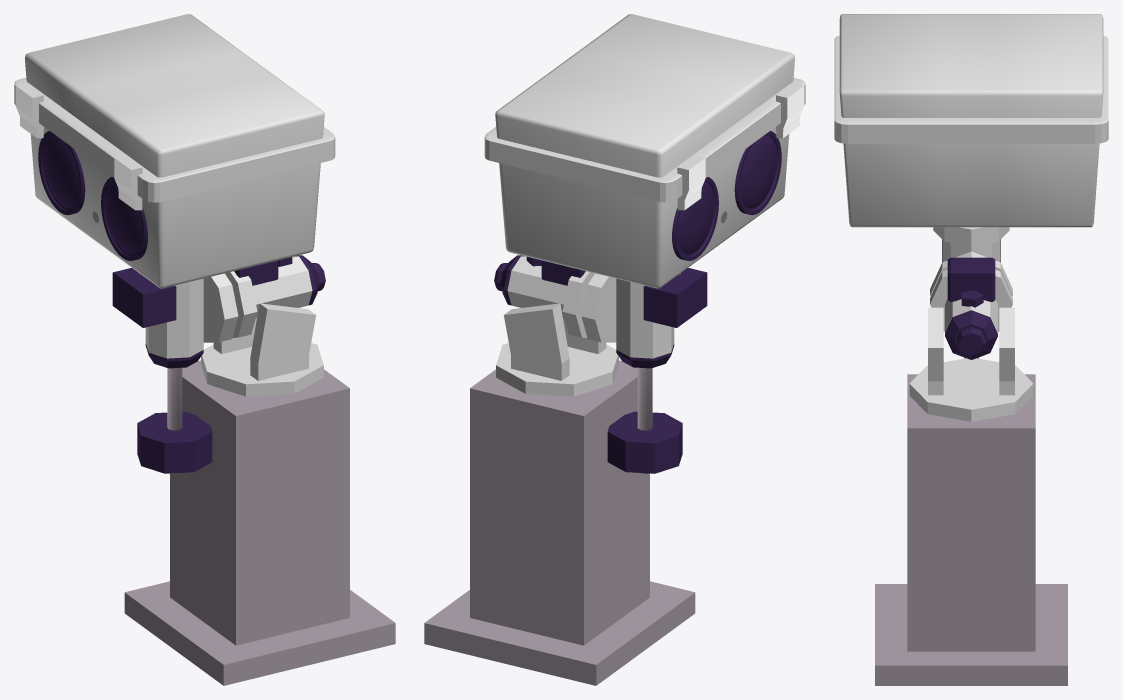
The model's file is model_for_export.glb.
The picture shows the model from 3 angles, left to right: view 1: azimuth 30°, elevation 25°; view 2: azimuth 150°, elevation 25°; view 3: azimuth 270°, elevation 25°; orthographic projection. The views are drawn at different scales.
Parts seen in each view (by area): view 1: Cube.007, Cube.005, Cylinder, Cylinder.003, Cube.009, Cylinder.002, Sphere, Cube.010, Cylinder.011; view 2: Cube.007, Cube.005, Cylinder, Cylinder.003, Cube.009, Cylinder.002, Sphere, Cube.010, Cylinder.011; view 3: Cube.005, Cube.007, Cube.009, Cylinder.003, Cylinder.002, Cylinder, Cube.004.
Boxes of the visible parts, <box> form: Cube.007: <box>124,360,395,685</box>; Cube.005: <box>25,14,324,288</box>; Cylinder: <box>112,268,238,473</box>; Cylinder.003: <box>201,303,323,396</box>; Cube.009: <box>14,78,335,202</box>; Cylinder.002: <box>225,255,325,337</box>; Sphere: <box>43,135,142,253</box>; Cube.010: <box>15,83,142,210</box>; Cylinder.011: <box>38,131,147,260</box>; Cube.007: <box>424,360,695,685</box>; Cube.005: <box>495,14,794,288</box>; Cylinder: <box>581,268,707,473</box>; Cylinder.003: <box>496,303,618,396</box>; Cube.009: <box>484,78,805,202</box>; Cylinder.002: <box>494,255,594,337</box>; Sphere: <box>677,135,776,253</box>; Cube.010: <box>677,83,804,210</box>; Cylinder.011: <box>672,131,781,260</box>; Cube.005: <box>839,14,1103,227</box>; Cube.007: <box>875,374,1067,685</box>; Cube.009: <box>834,36,1108,143</box>; Cylinder.003: <box>909,307,1033,421</box>; Cylinder.002: <box>930,257,1012,359</box>; Cylinder: <box>930,239,1012,358</box>; Cube.004: <box>933,227,1009,246</box>.
Size of the model in its own units: 2.92 by 5.8 by 2.61.
6 materials, 1 textured.
